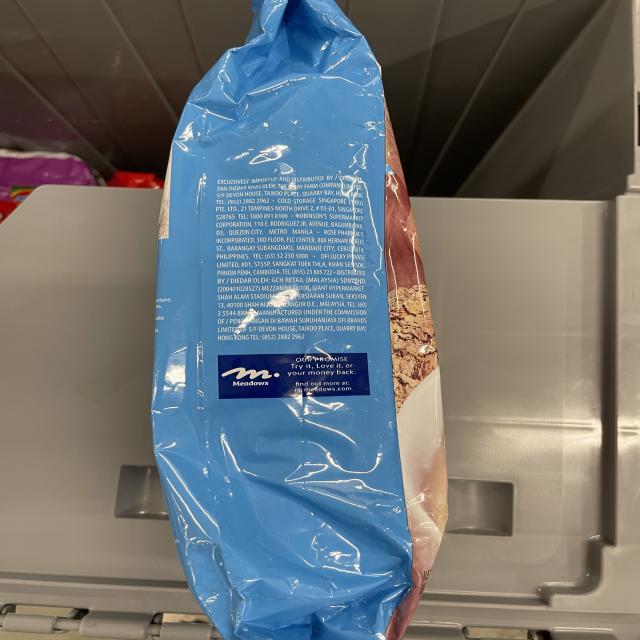object_name: (167, 24, 430, 626)
